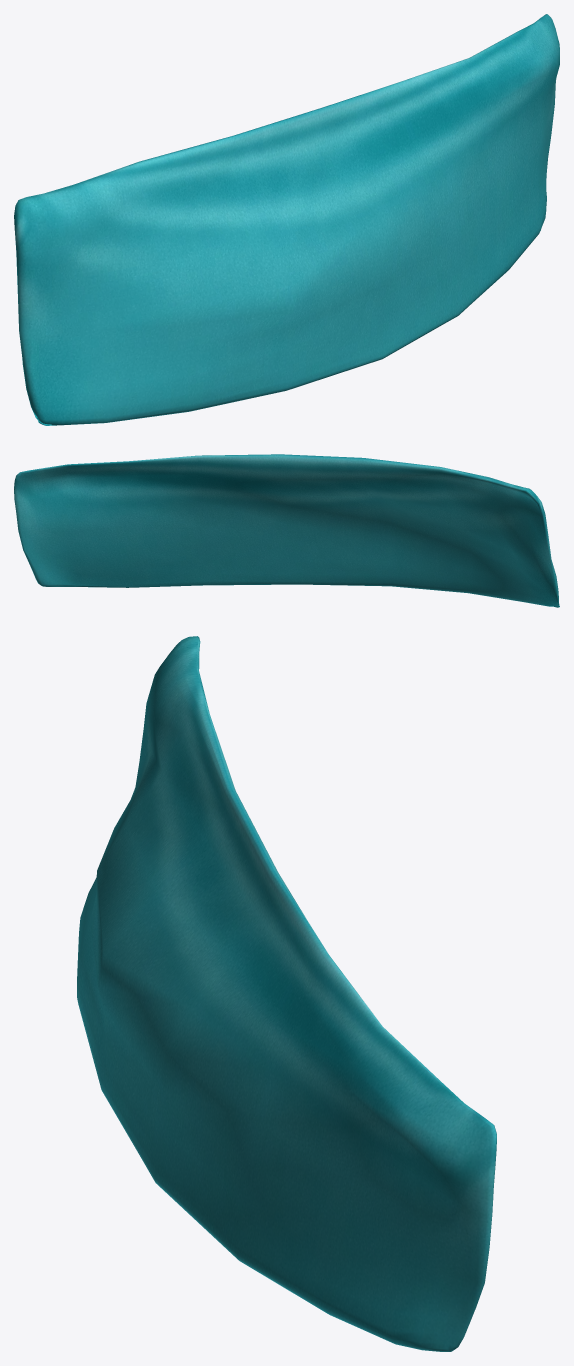
Rendered from pocket_square.glb.
3 views of the same model, one above another, from view 1: azimuth 30°, elevation 25°; view 2: azimuth 150°, elevation 25°; view 3: azimuth 270°, elevation 25° (orthographic). The views are drawn at different scales.
Visible parts, largest first — view 1: Pocket Square; view 2: Pocket Square; view 3: Pocket Square.
Part boxes in pixels (x1,y1,x2,y2): Pocket Square: [14, 14, 559, 425]; Pocket Square: [14, 454, 559, 607]; Pocket Square: [77, 636, 496, 1351].
Bounding box in the file's own units: 6.01 × 2.11 × 2.42.
Materials: 1 (1 with a texture image).
